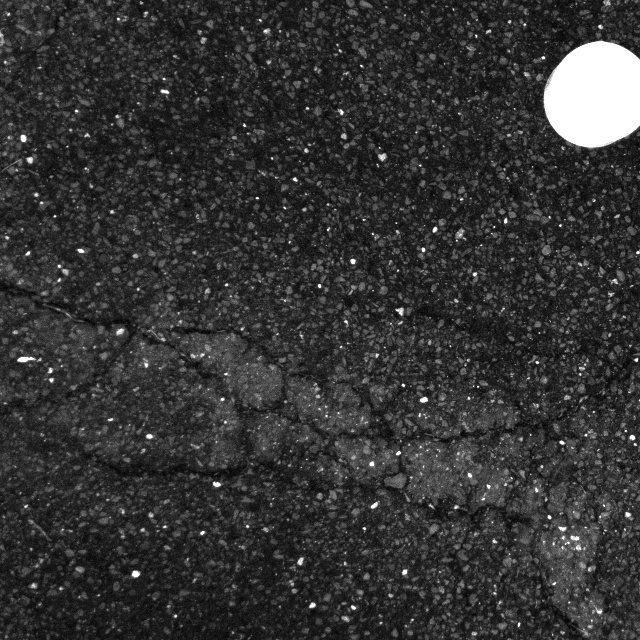can: (538, 32, 640, 151)
